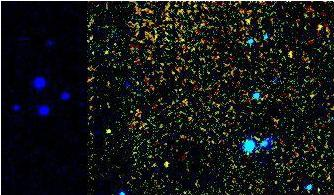star: (88, 120, 118, 150)
